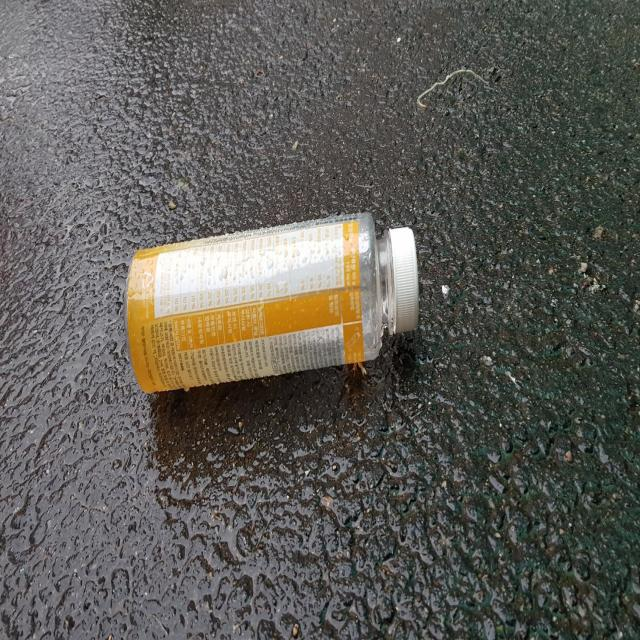plastic: (125, 212, 419, 392)
